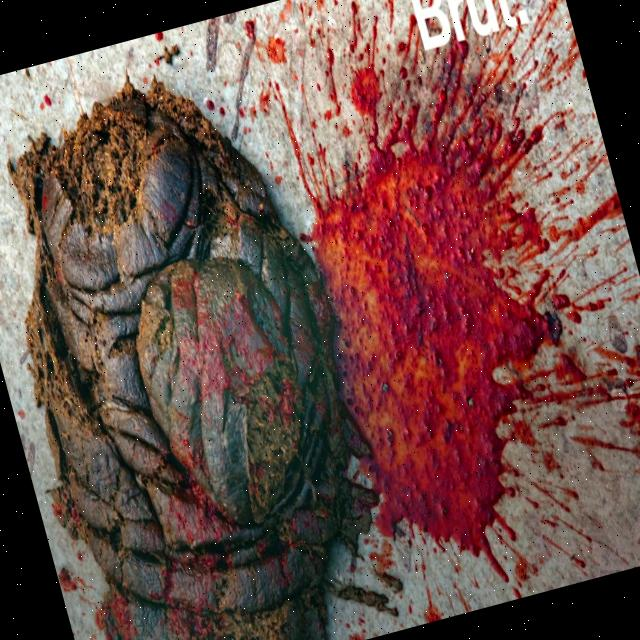spit: (281, 97, 640, 577)
